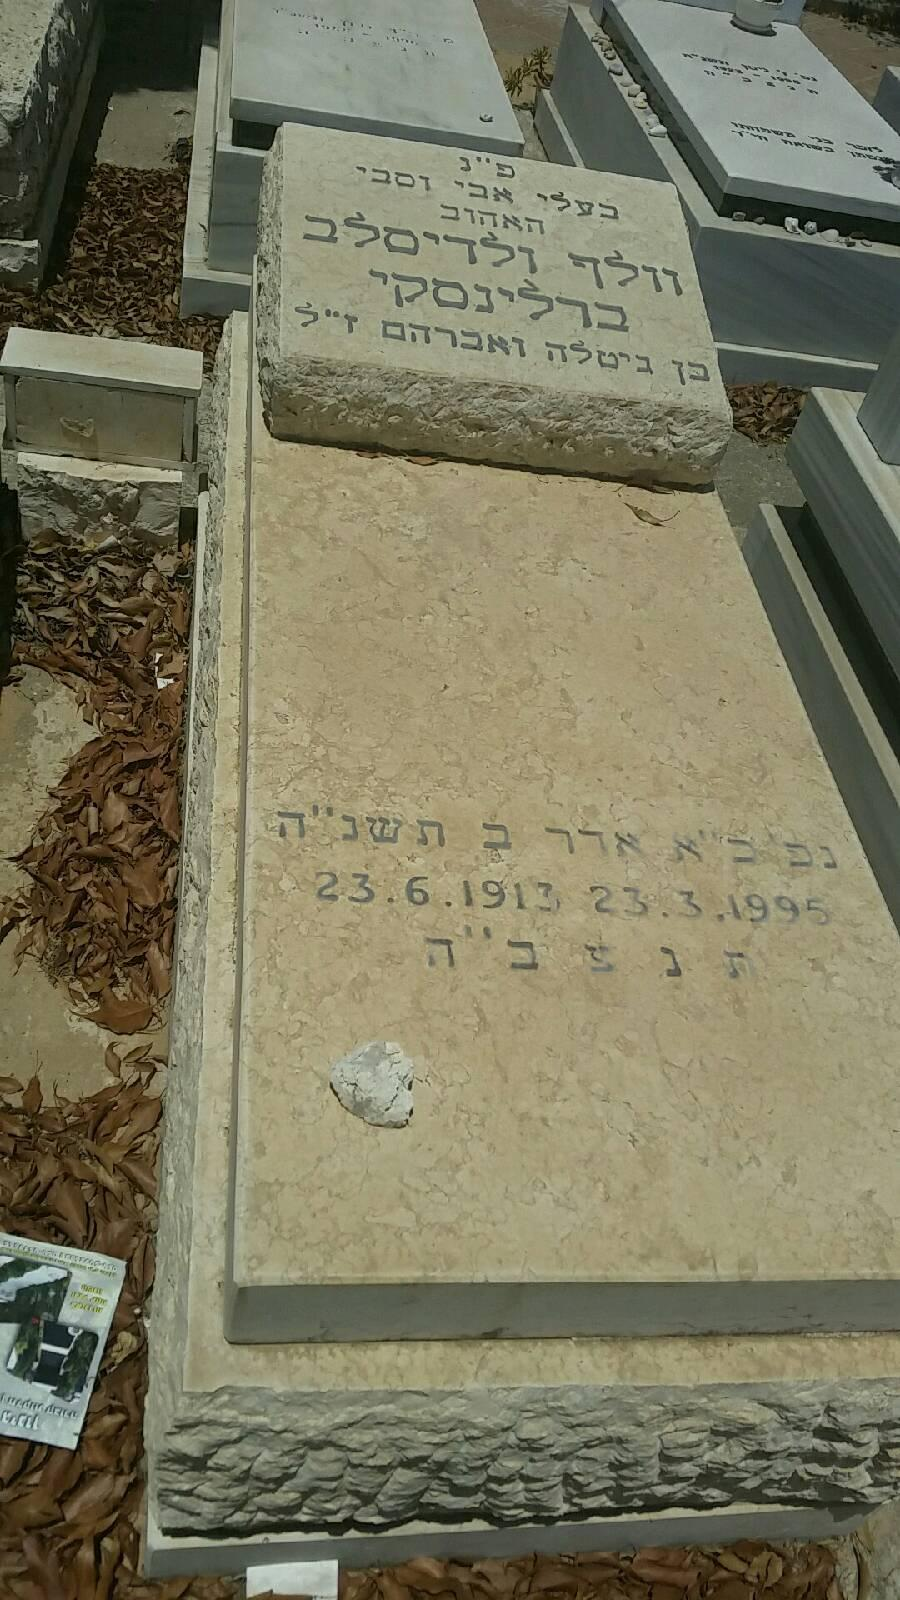vault: (30, 20, 885, 1585)
